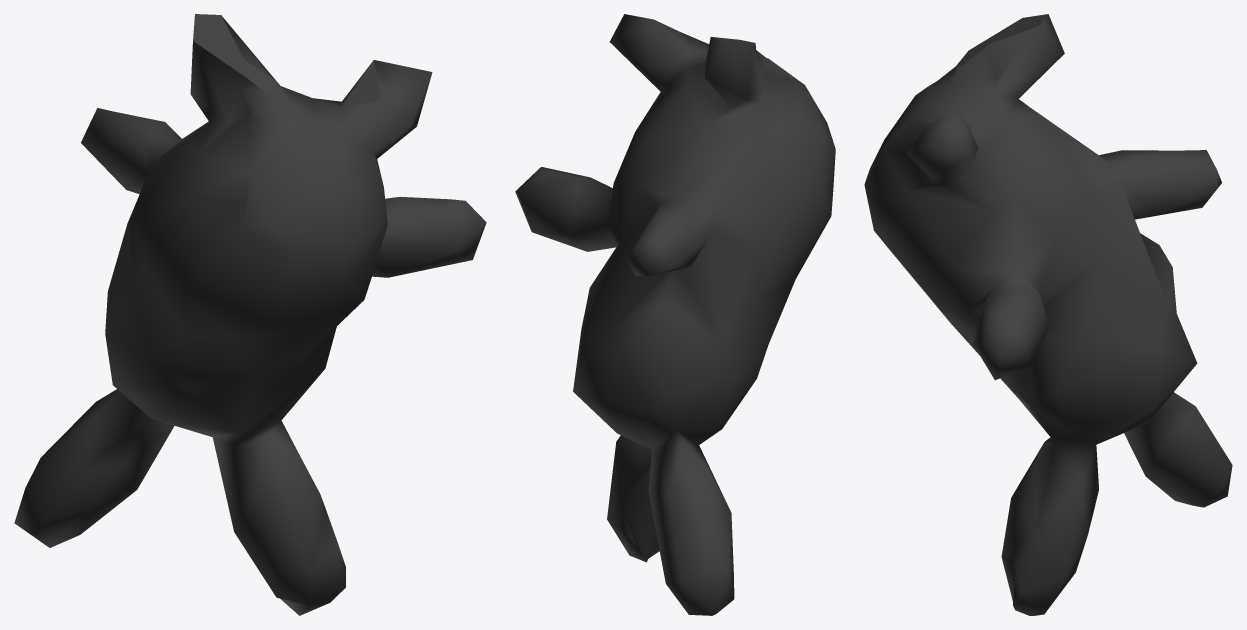
File: Object1Retopo.FBX
3 renders of one model, left to right at view 1: azimuth 30°, elevation 25°; view 2: azimuth 150°, elevation 25°; view 3: azimuth 270°, elevation 25°, orthographic. The views are drawn at different scales.
Visible parts, largest first — view 1: new; view 2: new; view 3: new.
Boxes of the visible parts, x1,y1,x2,y2 form: new: (14,14,486,615); new: (515,14,835,615); new: (864,14,1232,615).
Bounding box in the file's own units: 2.98 × 5.03 × 3.
